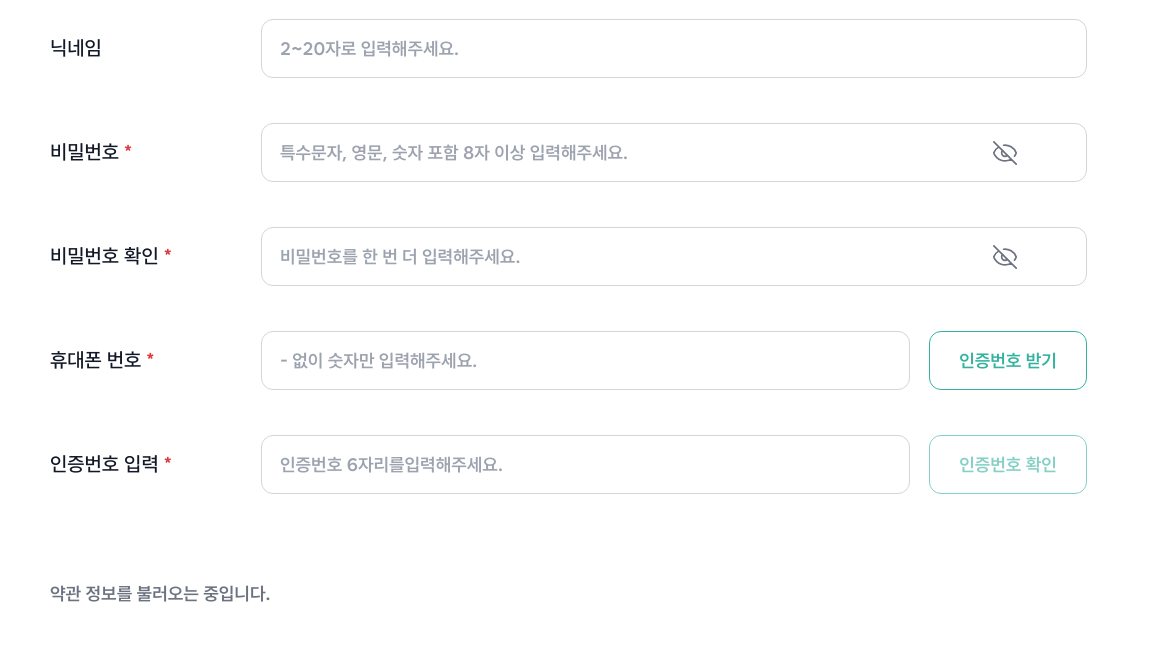
Test: SignupPage SMS verification › resets client SMS state after the server returns AUTH_400_SMS_EXPIRED
(page scrolled)
Type "01011112222" into the field labelled "휴대폰 번호 *" at (586, 360), box 261,331 -> 910,390
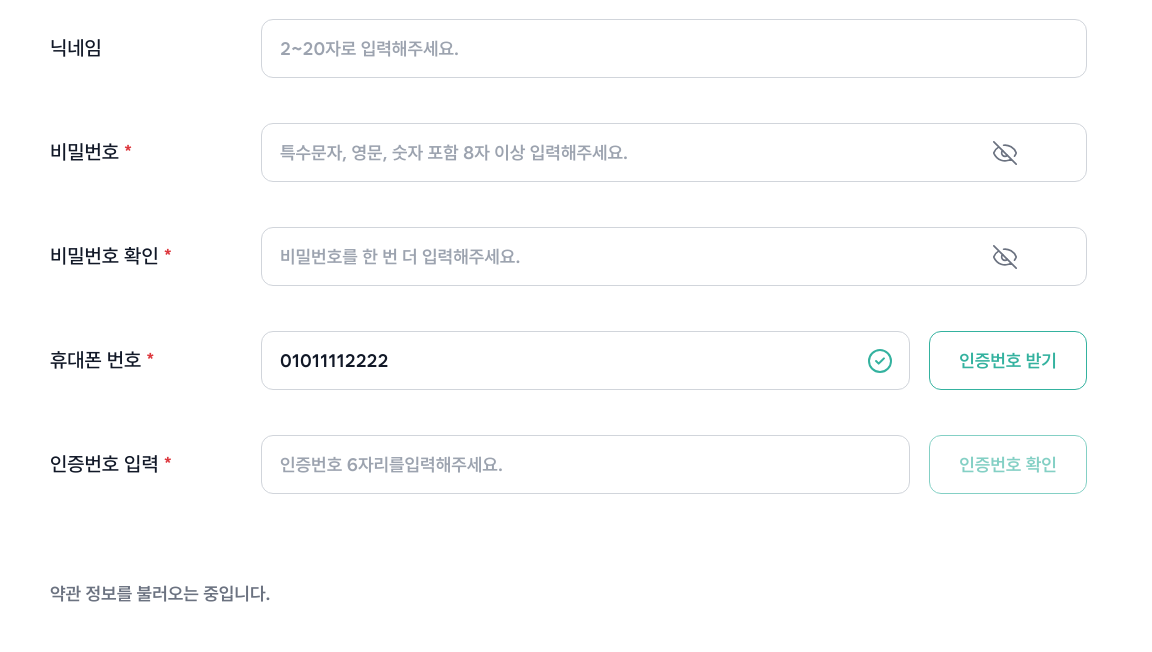
Click the button "인증번호 받기" at (1008, 360), box 929,331 -> 1087,390
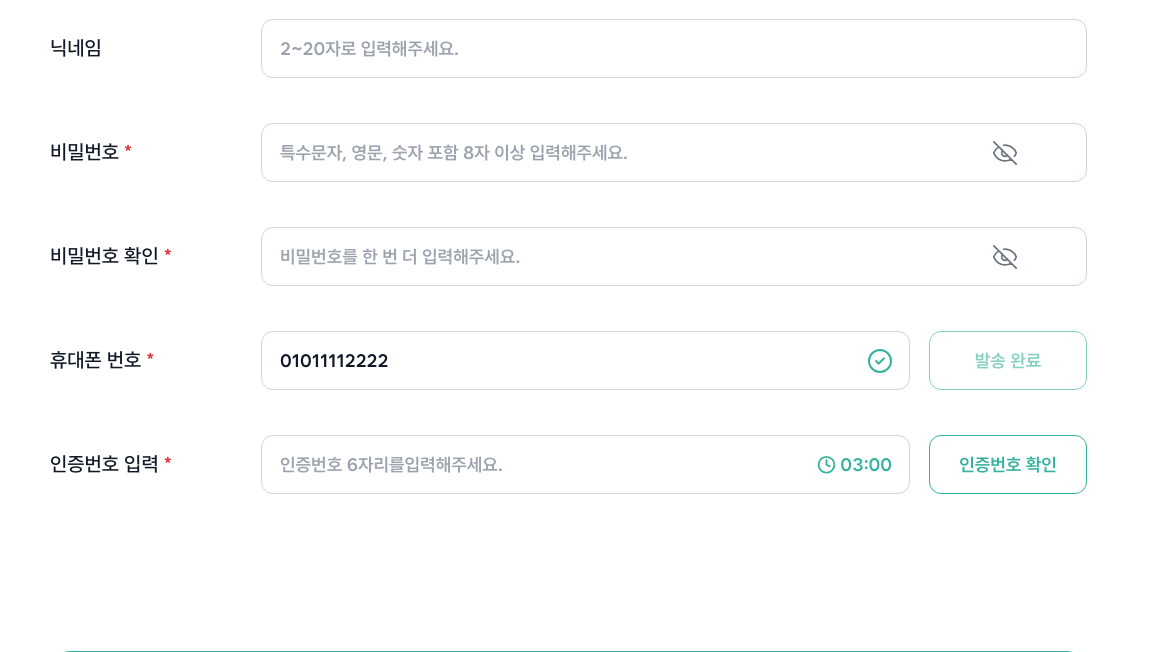
Type "123456" into the field labelled "인증번호 입력 *" at (586, 464), box 261,435 -> 910,494
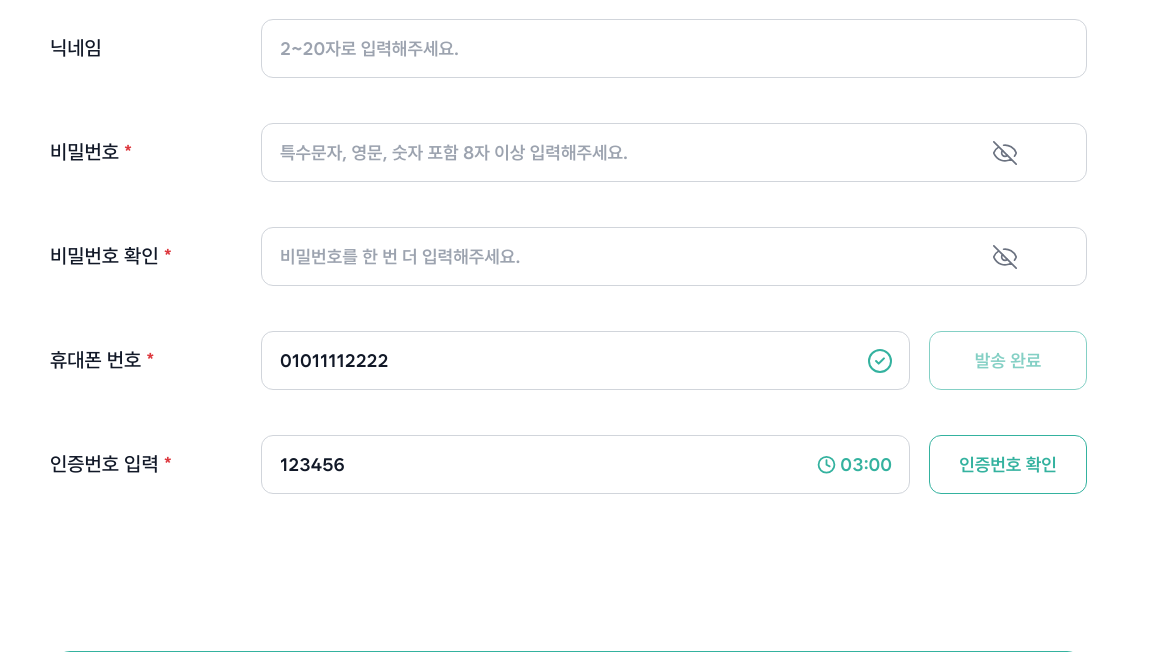
Click the button "인증번호 확인" at (1008, 464), box 929,435 -> 1087,494
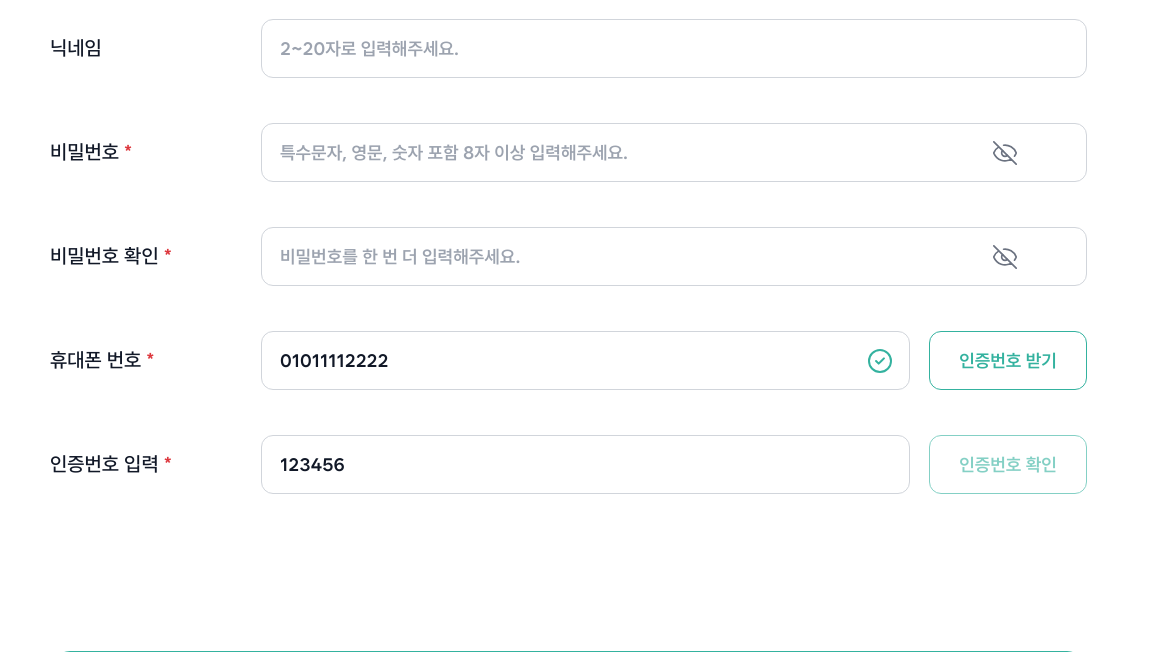
expect the button "인증번호 받기" is enabled: met, box 929,331 -> 1087,390
expect the button "인증번호 확인" is disabled: met, box 929,435 -> 1087,494
